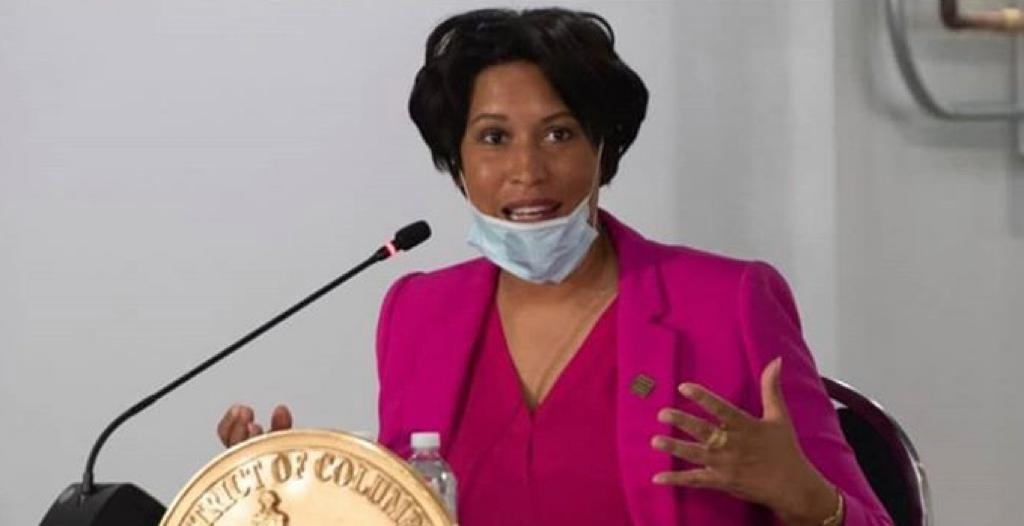mouth: (500, 197, 563, 221)
nose: (506, 169, 547, 187)
